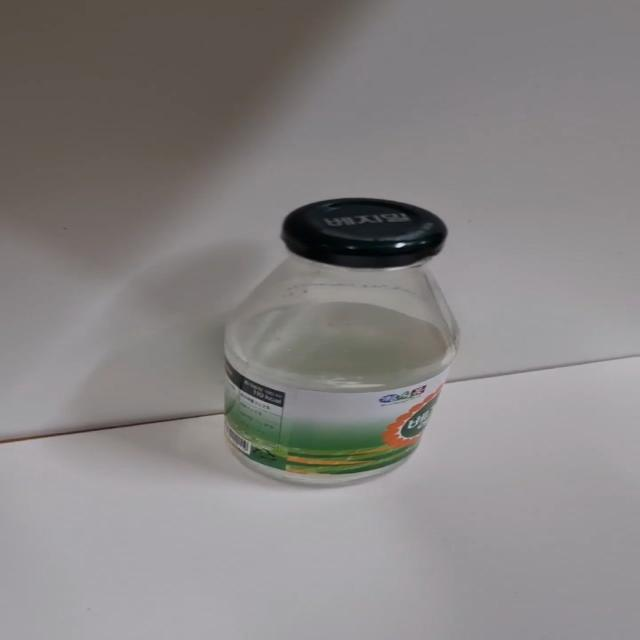Glass: (208, 196, 472, 498)
